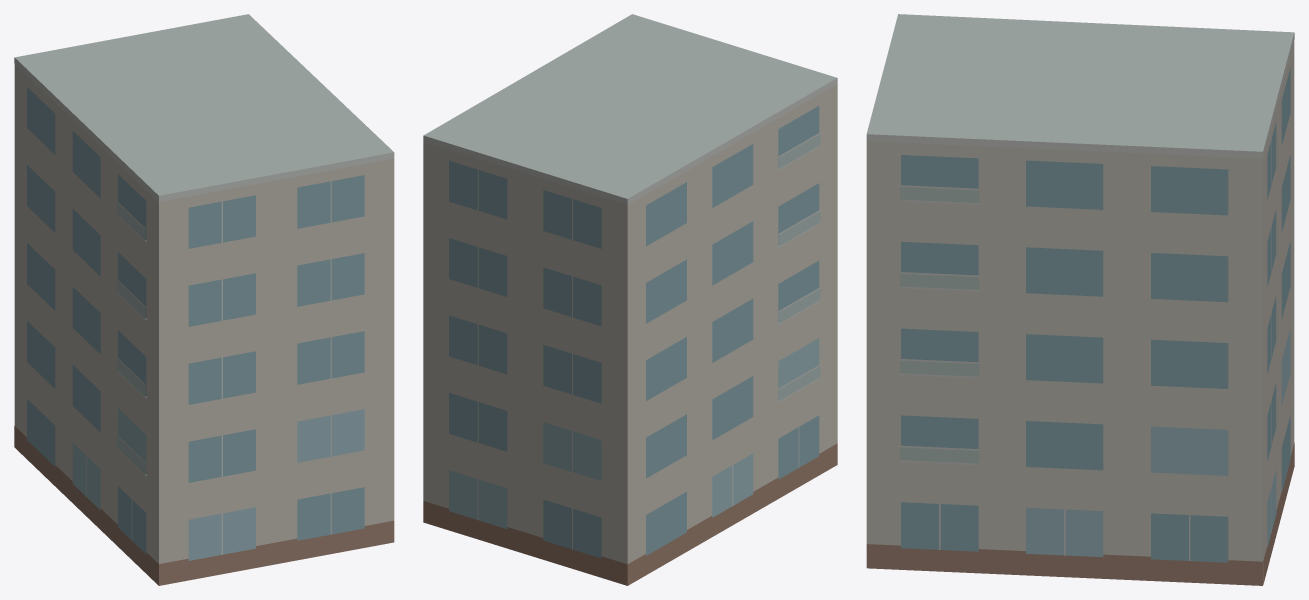
File: survey-upis-32670755.glb
The picture shows the model from 3 angles, left to right: view 1: azimuth 30°, elevation 25°; view 2: azimuth 150°, elevation 25°; view 3: azimuth 270°, elevation 25°; orthographic projection. The views are drawn at different scales.
Visible parts, largest first — view 1: survey-upis-32670755.tmp; view 2: survey-upis-32670755.tmp; view 3: survey-upis-32670755.tmp.
Part boxes in pixels (x1,y1,x2,y2): survey-upis-32670755.tmp: (14,14,394,585); survey-upis-32670755.tmp: (423,14,837,585); survey-upis-32670755.tmp: (866,14,1294,585).
Bounding box in the file's own units: 10.46 × 15.35 × 13.72.
